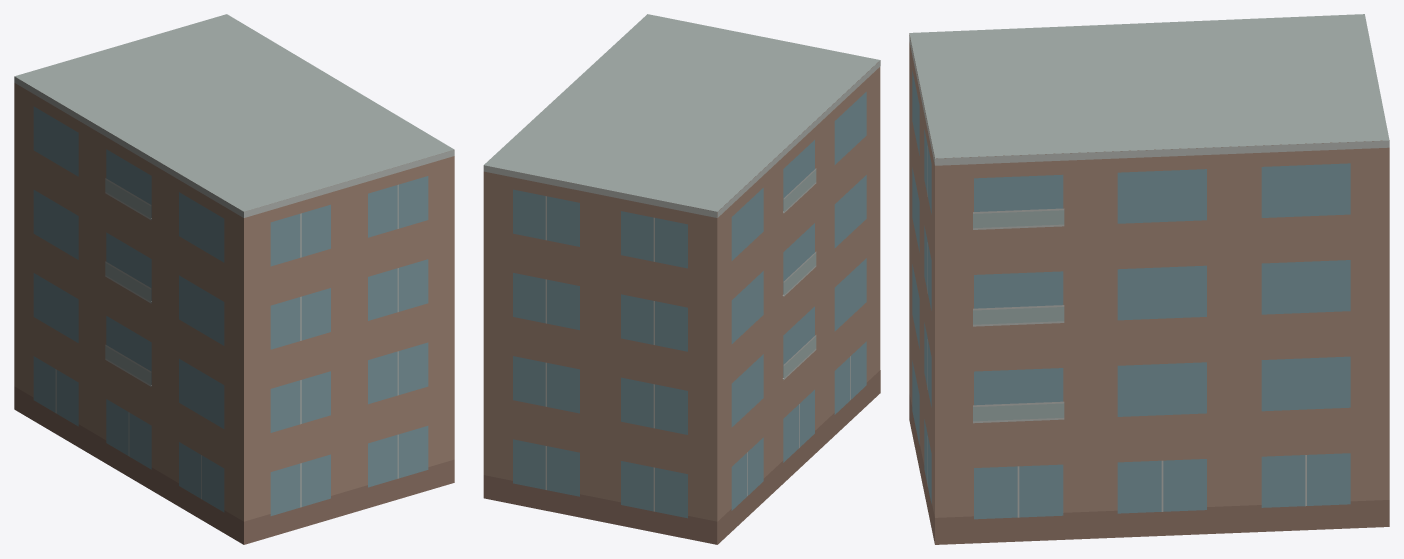
The model's file is survey-upis-32628163.glb.
The picture shows the model from 3 angles, left to right: view 1: azimuth 30°, elevation 25°; view 2: azimuth 150°, elevation 25°; view 3: azimuth 270°, elevation 25°; orthographic projection. The views are drawn at different scales.
Visible parts, largest first — view 1: survey-upis-32628163.tmp; view 2: survey-upis-32628163.tmp; view 3: survey-upis-32628163.tmp.
Part boxes in pixels (x1,y1,x2,y2): survey-upis-32628163.tmp: [14, 14, 454, 544]; survey-upis-32628163.tmp: [483, 14, 880, 544]; survey-upis-32628163.tmp: [909, 14, 1389, 544].
Size of the model in its own units: 10.35 by 12.9 by 14.54.
